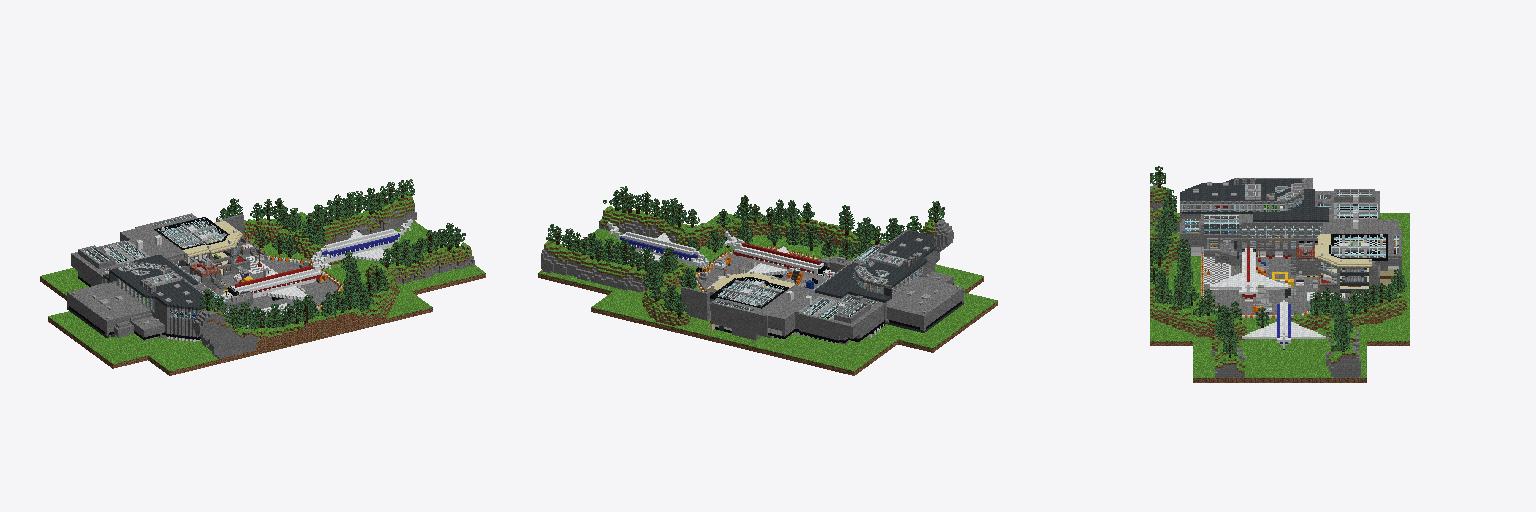
3 views of the same model, side by side, from view 1: azimuth 30°, elevation 25°; view 2: azimuth 150°, elevation 25°; view 3: azimuth 270°, elevation 25° (orthographic).
Size of the model in its own units: 159 by 29 by 96.
65 materials, 63 textured.